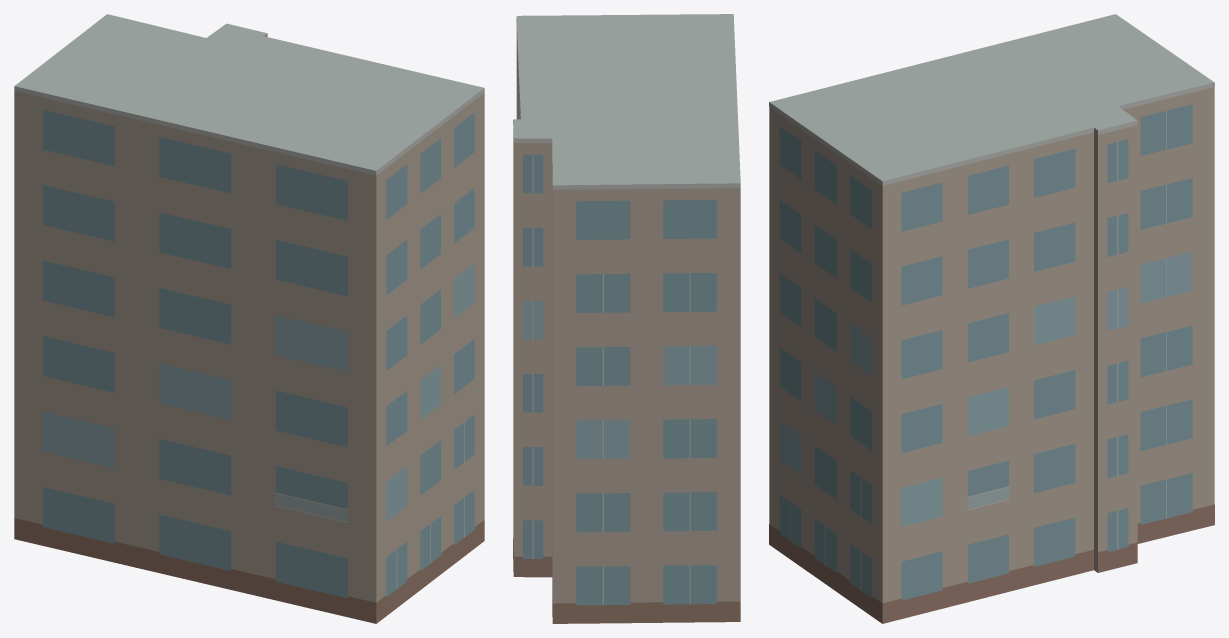
Rendered from survey-upis-32907967.glb.
The picture shows the model from 3 angles, left to right: view 1: azimuth 30°, elevation 25°; view 2: azimuth 150°, elevation 25°; view 3: azimuth 270°, elevation 25°; orthographic projection. The views are drawn at different scales.
Parts seen in each view (by area): view 1: survey-upis-32907967.tmp; view 2: survey-upis-32907967.tmp; view 3: survey-upis-32907967.tmp.
Part boxes in pixels (x1,y1,x2,y2): survey-upis-32907967.tmp: [14, 14, 484, 623]; survey-upis-32907967.tmp: [513, 14, 740, 623]; survey-upis-32907967.tmp: [769, 14, 1214, 623].
Size of the model in its own units: 18.98 by 23.4 by 21.36.
